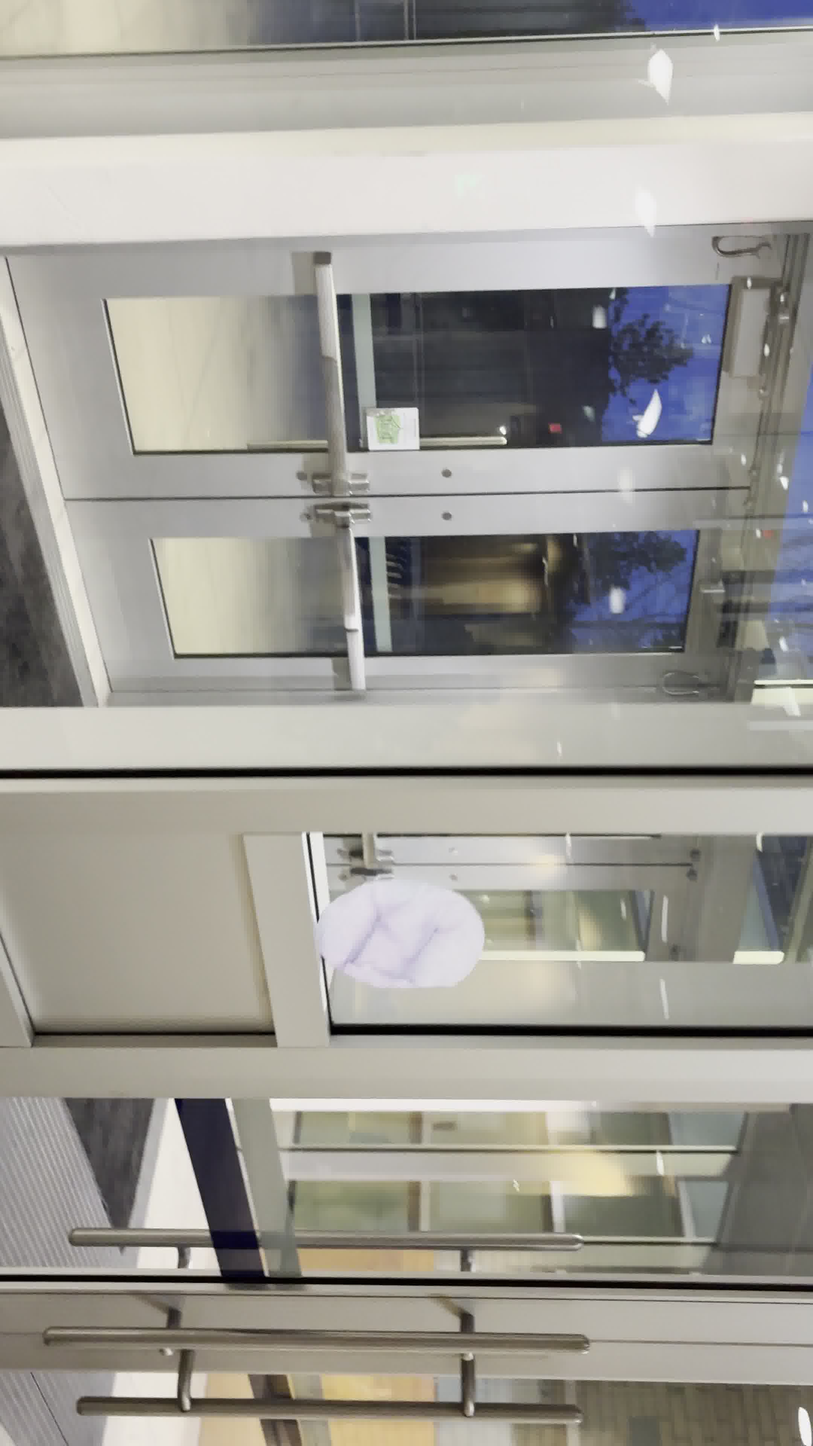Target: (312, 870, 491, 995)
